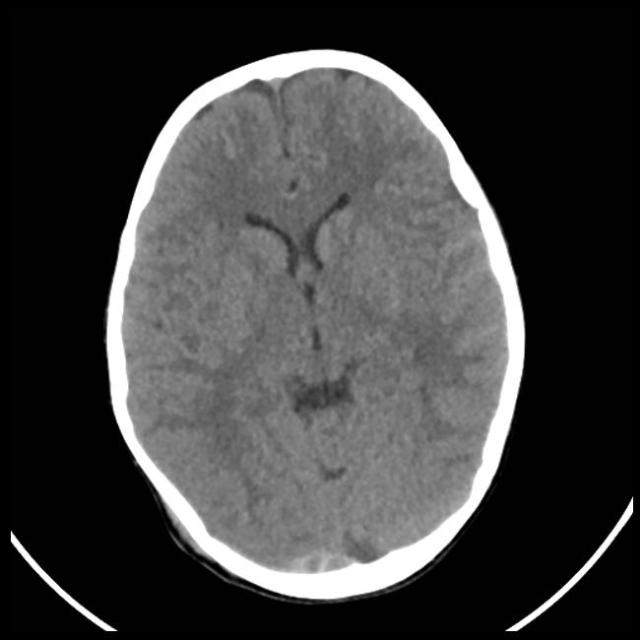lesion: (105, 55, 526, 588)
